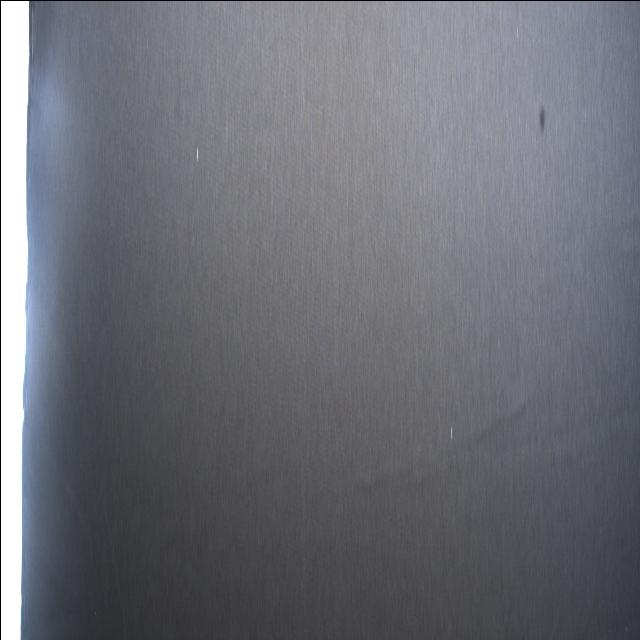crease: (349, 370, 559, 528), (95, 472, 130, 634)
whiteDefect: (194, 139, 199, 165)
